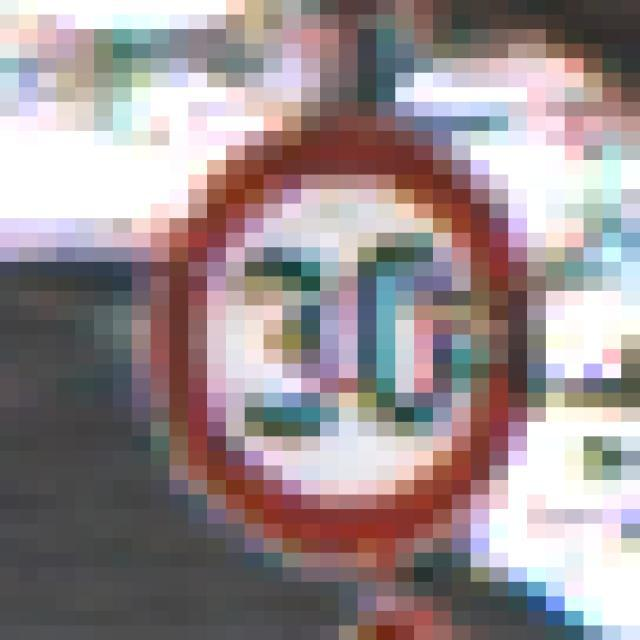Speed Limit -30-: (85, 80, 518, 546)
